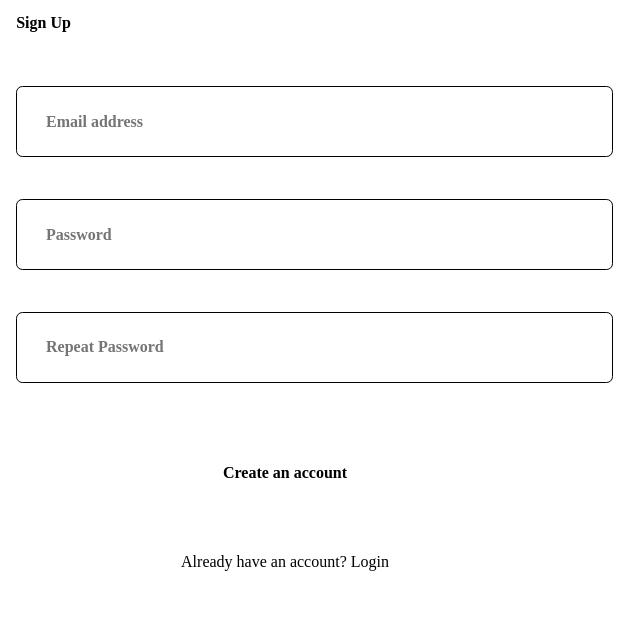
Test: Auth component testing › should not pass validation with wrong data
Type "test.com" into the field labelled "Email" at (315, 122), box [16,86,613,158]
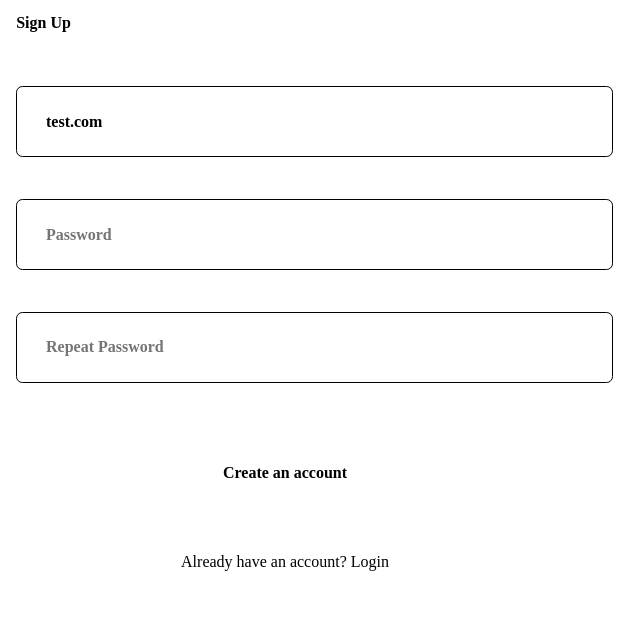
Type "1234" into the password field labelled "Password" at (315, 235), box [16,199,613,270]
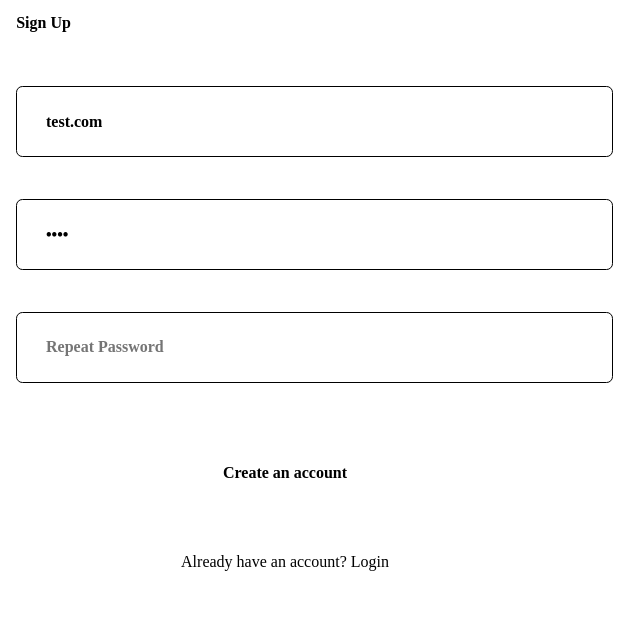
Click the button at (285, 473), box [16,434,554,511]
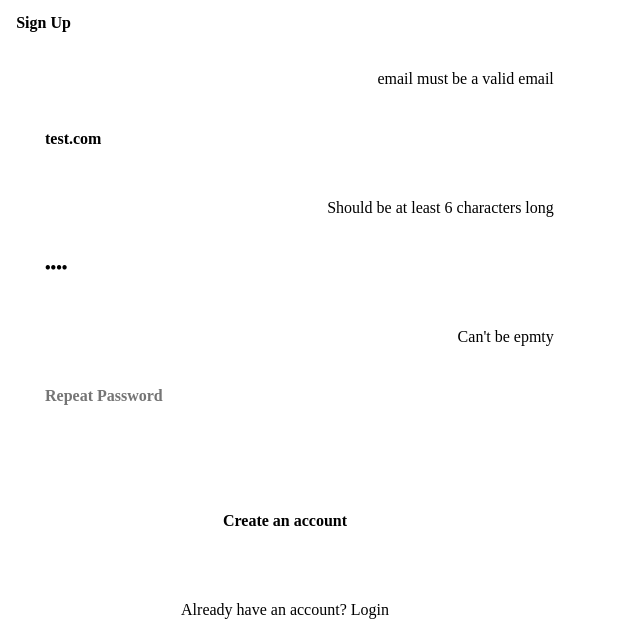
Expected: the number of messages is 3, [377,70,554,88]; [327,199,554,217]; [458,328,554,346]
